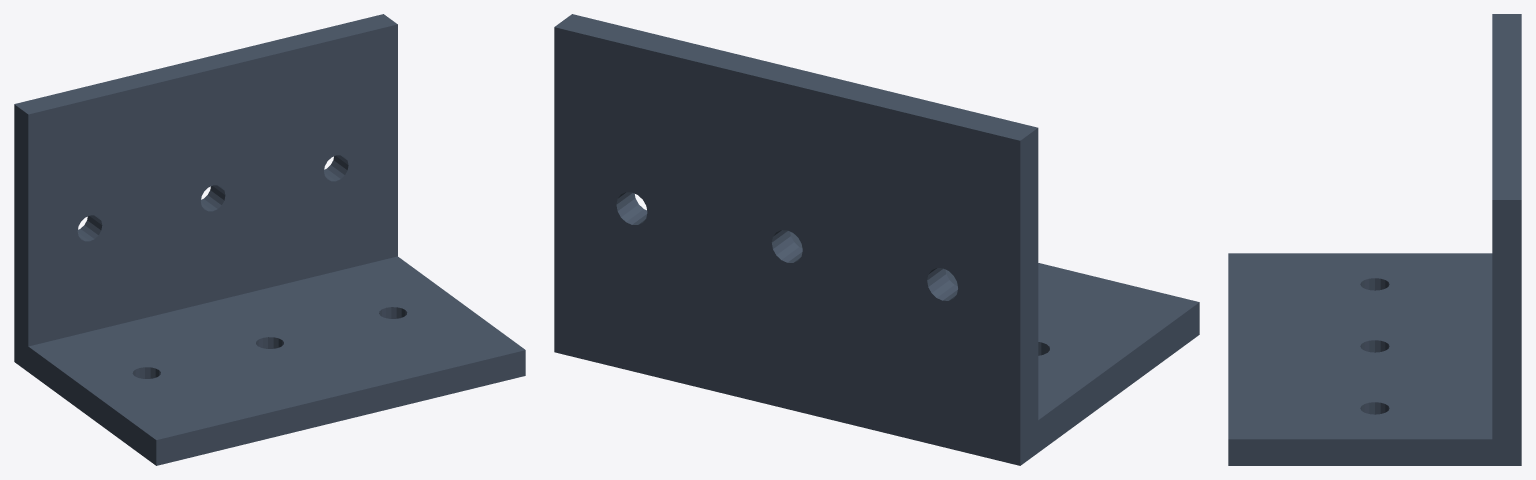
Rendered from kit_angle_bracket.obj.
3 renders of one model, left to right at view 1: azimuth 30°, elevation 25°; view 2: azimuth 150°, elevation 25°; view 3: azimuth 270°, elevation 25°, orthographic. The views are drawn at different scales.
Parts seen in each view (by area): view 1: kit_angle_bracket; view 2: kit_angle_bracket; view 3: kit_angle_bracket.
Boxes of the visible parts, box(x1,y1,x2,y2) form: kit_angle_bracket: box(14, 14, 525, 465); kit_angle_bracket: box(554, 14, 1199, 465); kit_angle_bracket: box(1228, 14, 1521, 465).
Size of the model in its own units: 0.06 by 0.04 by 0.04.
